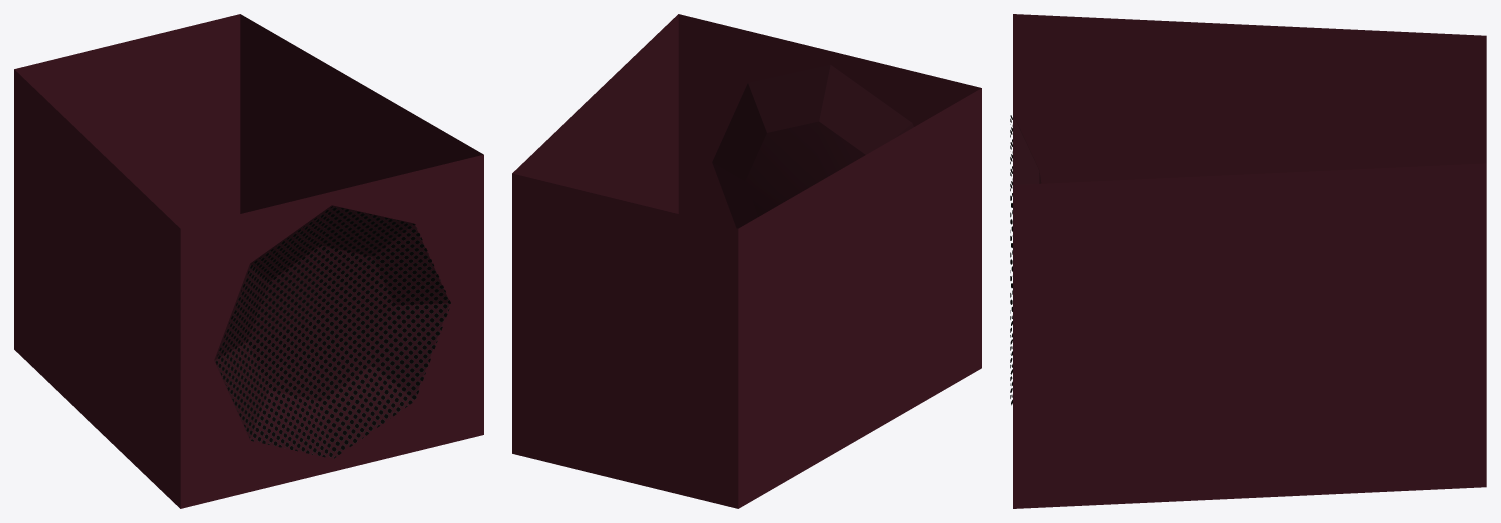
The model's file is Itr_Obj_Speaker3_Middle_04.FBX.
The picture shows the model from 3 angles, left to right: view 1: azimuth 30°, elevation 25°; view 2: azimuth 150°, elevation 25°; view 3: azimuth 270°, elevation 25°; orthographic projection. The views are drawn at different scales.
Visible parts, largest first — view 1: Itr_Obj_Speaker3_Middle_04; view 2: Itr_Obj_Speaker3_Middle_04; view 3: Itr_Obj_Speaker3_Middle_04.
Part boxes in pixels (x1=…): Itr_Obj_Speaker3_Middle_04: x1=14, y1=14, x2=483, y2=508; Itr_Obj_Speaker3_Middle_04: x1=512, y1=14, x2=981, y2=508; Itr_Obj_Speaker3_Middle_04: x1=1010, y1=14, x2=1486, y2=508.
Bounding box in the file's own units: 9.88 × 8.72 × 11.62.
